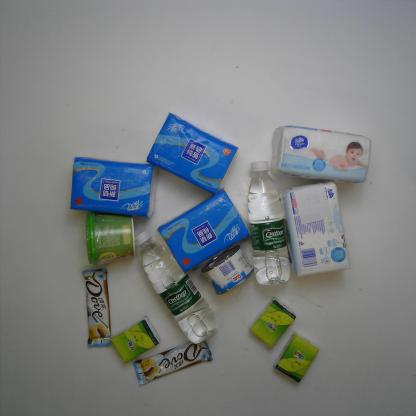Canned Food: (198, 241, 258, 298)
Chocolate: (131, 338, 216, 387), (80, 265, 113, 350)
Drink: (130, 227, 220, 346), (246, 158, 294, 288)
Instant Drink: (81, 209, 138, 268)
Tissue: (154, 186, 253, 276), (144, 108, 242, 197), (279, 180, 353, 279), (268, 123, 374, 185), (66, 153, 160, 220), (271, 330, 323, 386), (247, 294, 299, 349), (109, 312, 162, 365)
